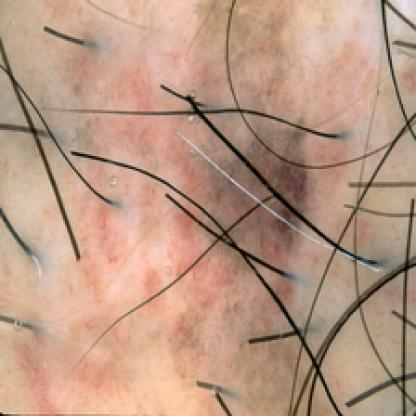malignant: (217, 87, 301, 271)
